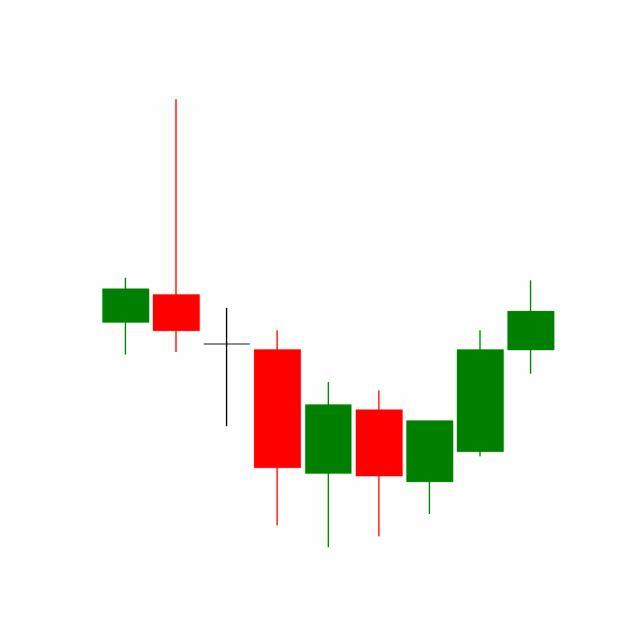Hikkake Pattern: (252, 327, 506, 549)
